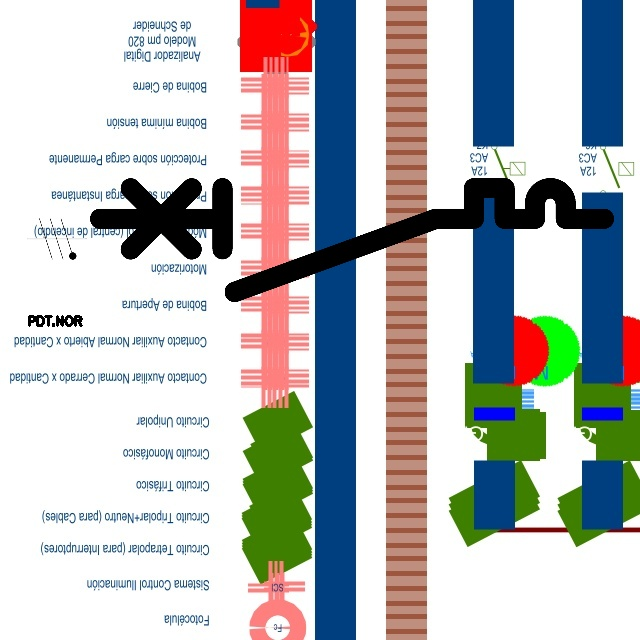interruptor_termomagnetico: (86, 175, 616, 304)
